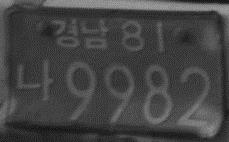1: (151, 17, 171, 53)
2: (177, 65, 211, 126)
8: (143, 62, 173, 125), (119, 18, 145, 52)
9: (100, 59, 134, 125), (63, 58, 98, 120)
경남_O: (50, 17, 110, 50)
나: (15, 56, 55, 104)
